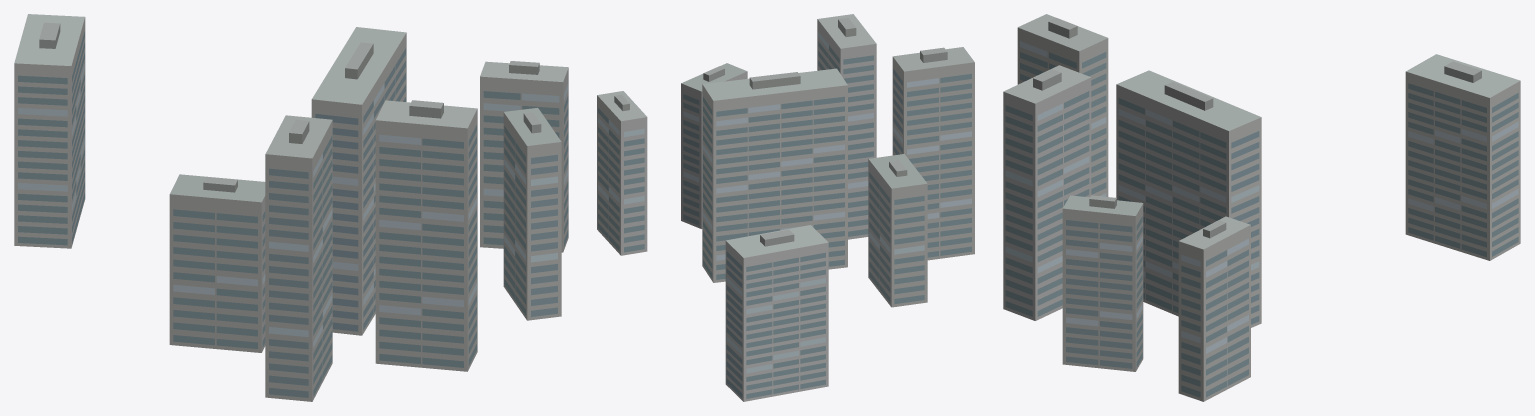
The model's file is apt-a10027541.glb.
3 views of the same model, side by side, from view 1: azimuth 30°, elevation 25°; view 2: azimuth 150°, elevation 25°; view 3: azimuth 270°, elevation 25° (orthographic). The views are drawn at different scales.
Parts seen in each view (by area): view 1: apt-a10027541; view 2: apt-a10027541; view 3: apt-a10027541.
Boxes of the visible parts, <box> form: apt-a10027541: <box>14,14,568,401</box>; apt-a10027541: <box>597,14,974,401</box>; apt-a10027541: <box>1003,14,1520,401</box>.
Bounding box in the file's own units: 107 × 61 × 126.
